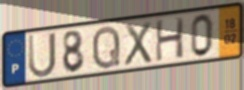0: (189, 12, 215, 59)
8: (61, 29, 87, 74)
H: (154, 15, 186, 64)
Q: (90, 24, 122, 72)
U: (26, 30, 58, 80)
X: (123, 19, 154, 68)
